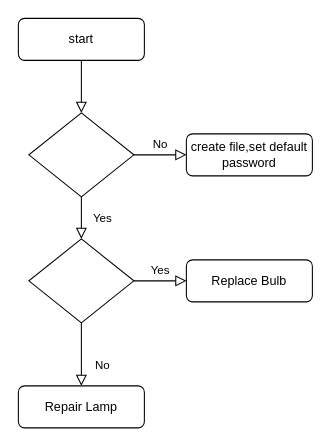
Image size: 331x446. Some labels were removed from this diagram. The centre of each missing label's shape, as x and y in pixels:
"Bulb burned out?" goes at point 81,280.
"file exist?" goes at point 81,154.
